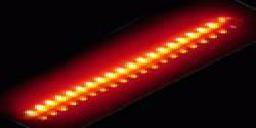LED: (23, 22, 231, 122)
